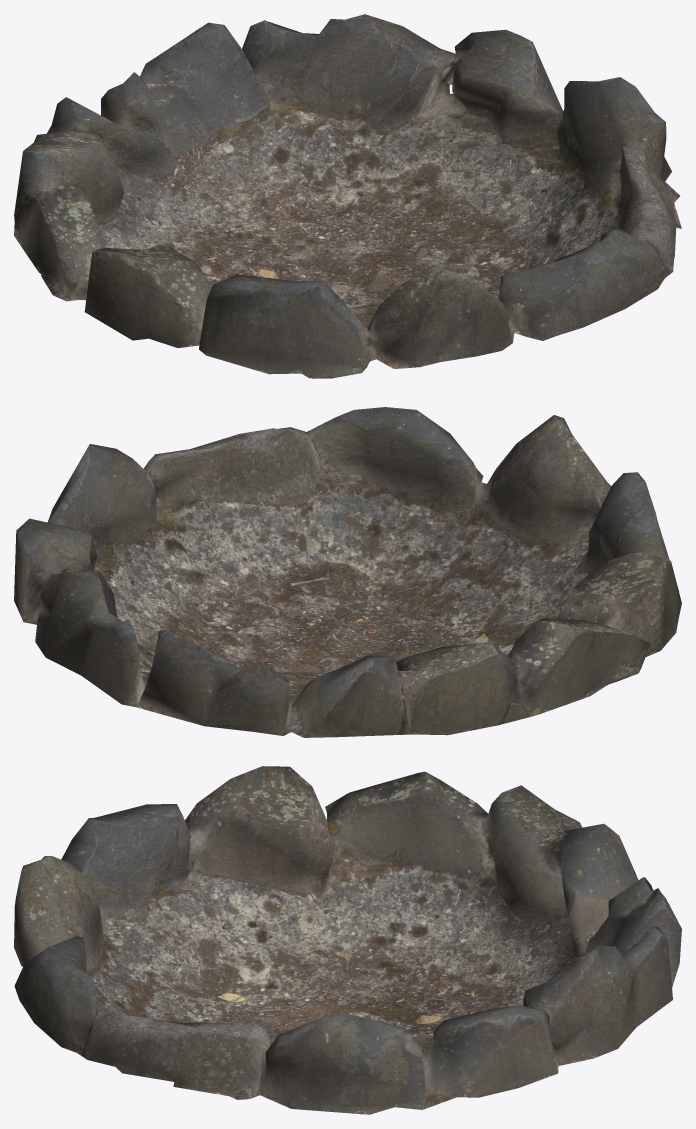
File: stone_fire_pit.glb
The picture shows the model from 3 angles, top to bottom: view 1: azimuth 30°, elevation 25°; view 2: azimuth 150°, elevation 25°; view 3: azimuth 270°, elevation 25°; orthographic projection.
Visible parts, largest first — view 1: stone_fire_pit; view 2: stone_fire_pit; view 3: stone_fire_pit.
Part boxes in pixels (x1=…): stone_fire_pit: x1=14, y1=14, x2=681, y2=378; stone_fire_pit: x1=14, y1=407, x2=681, y2=737; stone_fire_pit: x1=14, y1=766, x2=681, y2=1114.
Bounding box in the file's own units: 1.45 × 0.3883 × 1.43.
1 material, 1 textured.
